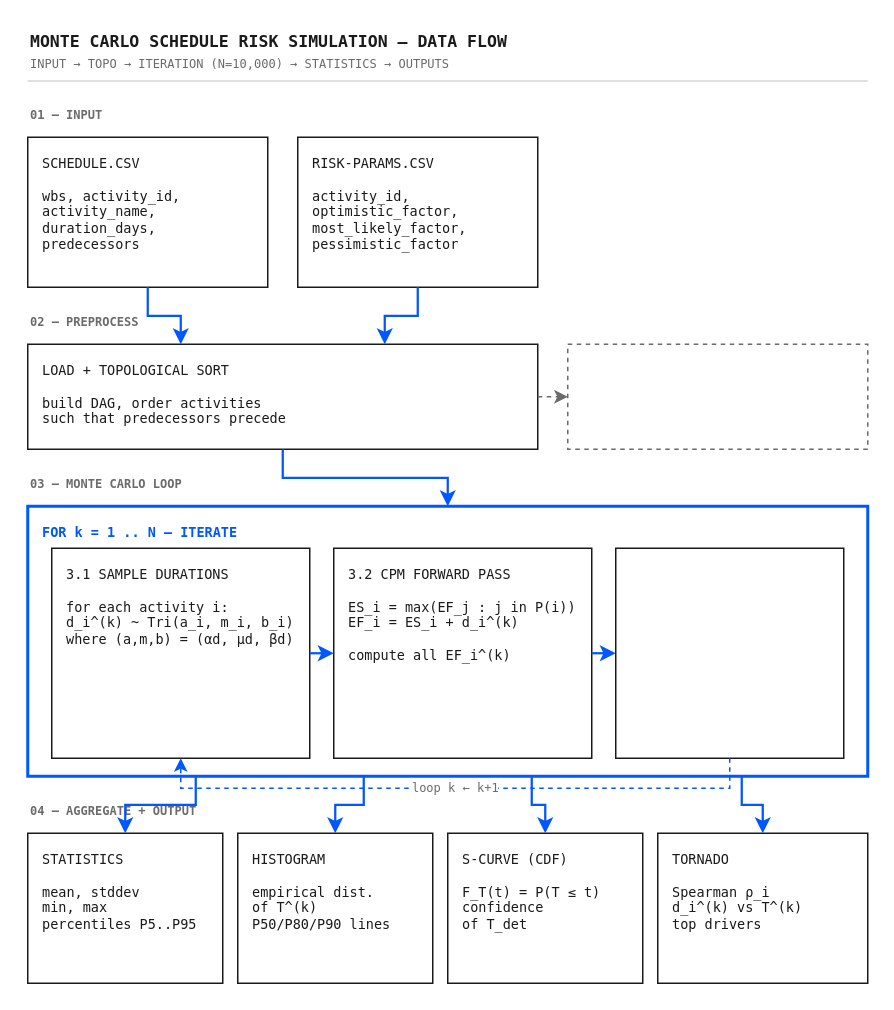
The diagram is 894 pixels wide and 1010 high, and some of its shapes have lost their labels. The centre of each missing label's shape, as x and y in pixels:
"3.3 RECORD FINISH T^(k) = max(EF_i^(k)) store d_i^(k) for sensitivity analysis" belongs at point (729, 652).
"DETERMINISTIC BASELINE forward pass with d_i T_det = max(EF_i)" belongs at point (717, 396).
